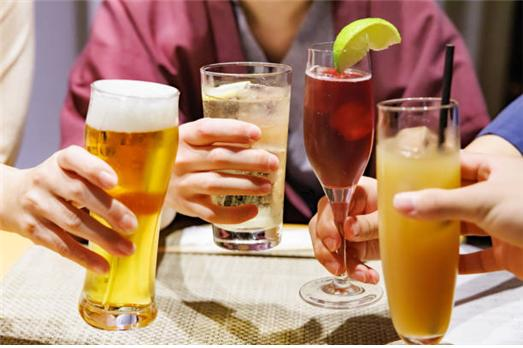alcohol: (79, 79, 178, 330), (301, 43, 382, 309), (379, 96, 458, 340), (199, 60, 290, 251)
